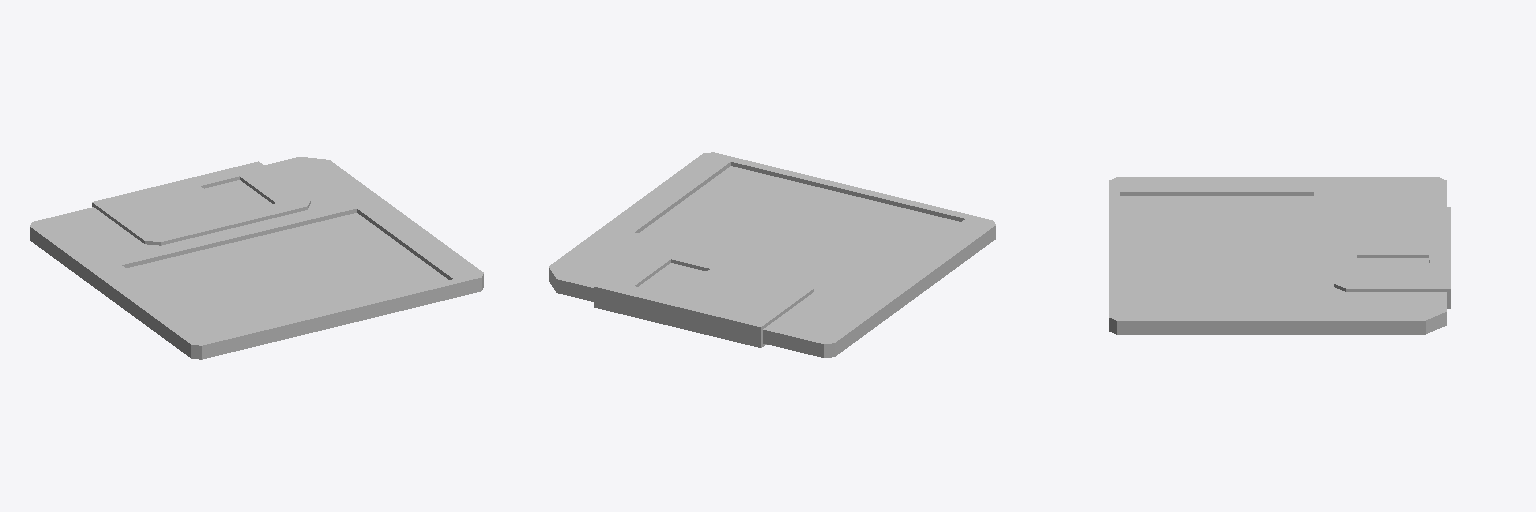
Rendered from floppy_disc_1.obj.
3 views of the same model, side by side, from view 1: azimuth 30°, elevation 25°; view 2: azimuth 150°, elevation 25°; view 3: azimuth 270°, elevation 25° (orthographic).
Parts seen in each view (by area): view 1: floppy_disc_1; view 2: floppy_disc_1; view 3: floppy_disc_1.
Part boxes in pixels (x1,y1,x2,y2): floppy_disc_1: (30,157,483,359); floppy_disc_1: (549,152,995,357); floppy_disc_1: (1109,177,1450,334).
Size of the model in its own units: 0.1584 by 0.0108 by 0.1602.